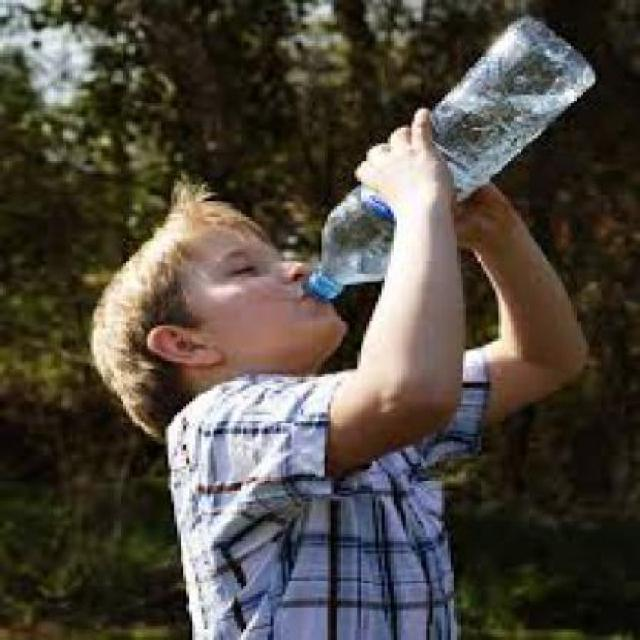Drinking: (286, 65, 568, 280)
